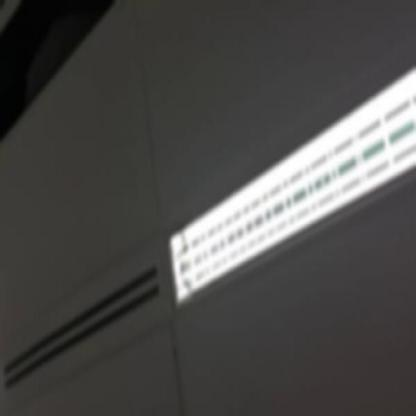light_on: (160, 57, 415, 327)
